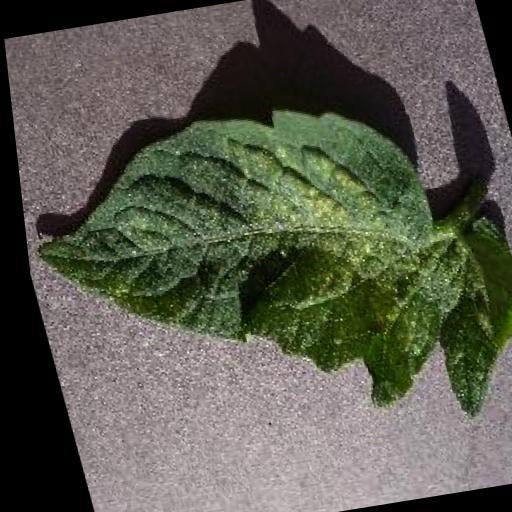Spider Mites: (7, 78, 512, 474)
